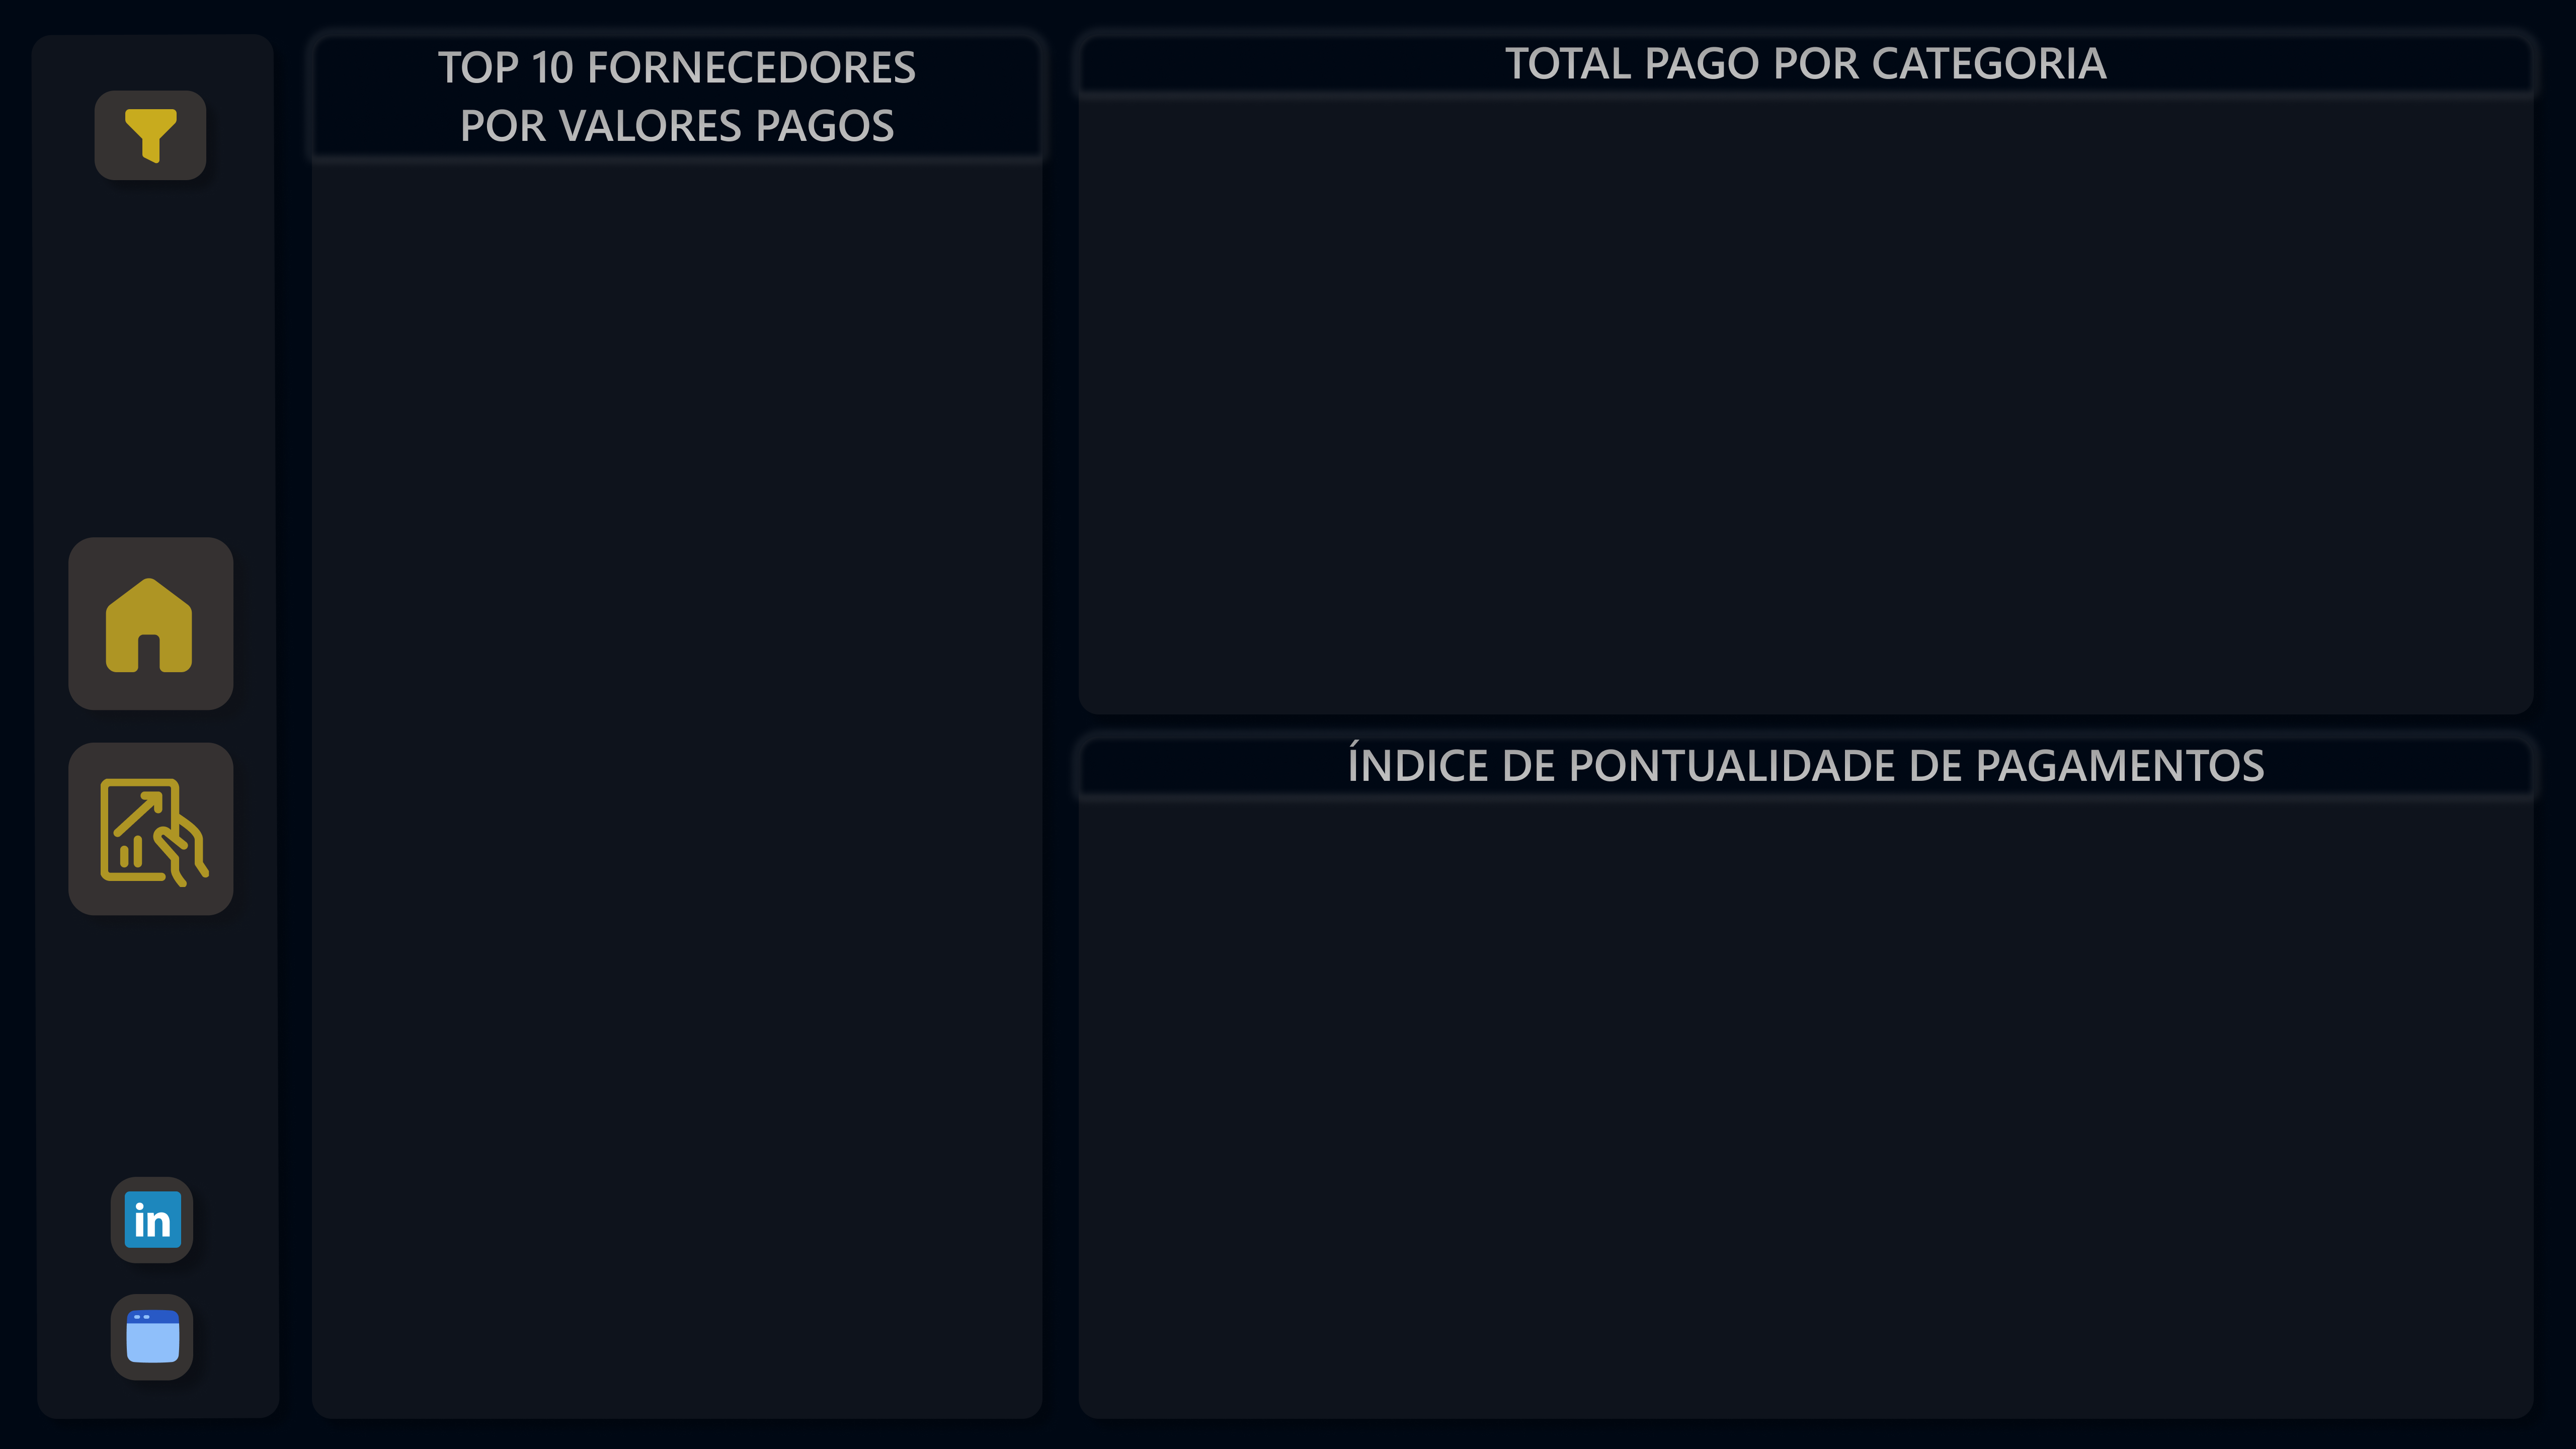

The page's visual inventory and layout, read from the dashboard file:
{"tool":"powerbi","page":{"name":"Performance","canvas":[1280,720],"ordinal":2},"visuals":[{"type":"barChart","title":"TOP 10 FORNECEDORES POR PAGAMENTOS","fields":{"Category":["dFornecedores.FORNECEDOR"],"Y":["Medidas.Pago_Total"]},"box":[157.5,56.2,368.8,663.8],"z":0},{"type":"gauge","title":"ÍNDICE DE PONTUALIDADE DE PAGAMENTOS","fields":{"Y":["Medidas.Qtd_no_prazo"]},"box":[526.2,403.8,753.8,300],"z":1000},{"type":"donutChart","title":"TOTAL PAGO POR CATEGORIA","fields":{"Category":["dCategoria.CATEGORIA"],"Y":["Medidas.Pago_Total"]},"box":[526.2,20,753.8,355],"z":2000},{"type":"actionButton","box":[31.8,265.8,86.8,85.8],"z":3000},{"type":"actionButton","box":[31.9,369.4,86.9,85.6],"z":4000},{"type":"actionButton","box":[53.1,584.4,43.1,45],"z":5000},{"type":"actionButton","box":[188,664,145,21],"z":6000},{"type":"actionButton","box":[53.1,641.9,43.1,45],"z":7000},{"type":"actionButton","box":[44.8,44.5,56.2,45],"z":8000}]}

Visuals, with their boxes in screenshot pixels (x1, y1, x2, y2), scaled from the page's 1280x720 canvas onto the 2576x1449 screenshot:
"TOP 10 FORNECEDORES POR PAGAMENTOS" barChart: 317/113/1059/1448
"ÍNDICE DE PONTUALIDADE DE PAGAMENTOS" gauge: 1059/813/2575/1416
"TOTAL PAGO POR CATEGORIA" donutChart: 1059/40/2575/755
actionButton: 64/535/238/707
actionButton: 64/744/239/916
actionButton: 107/1176/194/1267
actionButton: 378/1336/670/1379
actionButton: 107/1292/194/1383
actionButton: 90/90/203/180
